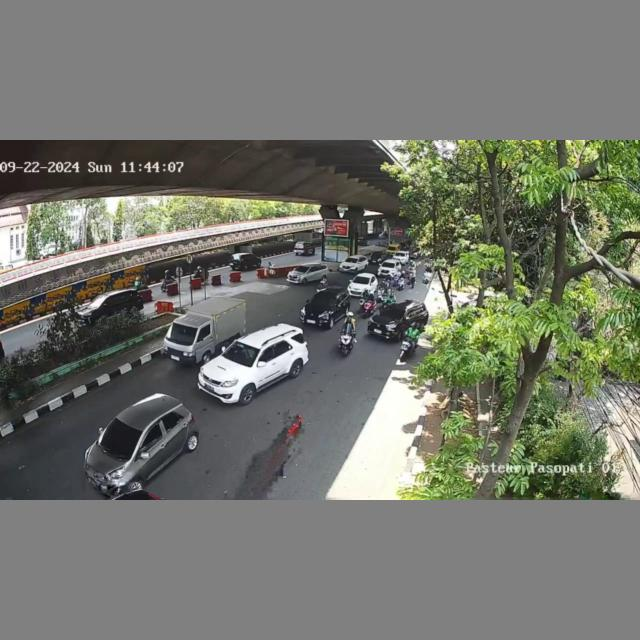windshield: (95, 418, 144, 456), (225, 338, 260, 365), (161, 324, 201, 344), (307, 293, 336, 310), (382, 306, 405, 321), (353, 275, 371, 284)
